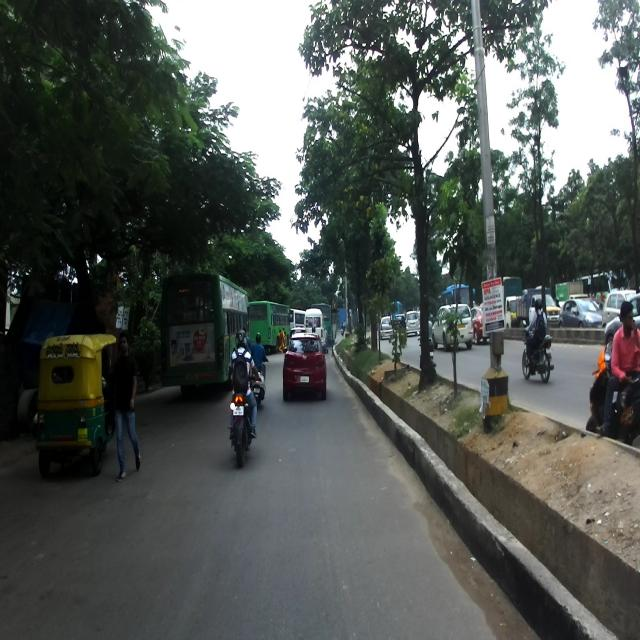autorickshaw: (36, 332, 119, 477)
bus: (161, 270, 254, 386)
car: (282, 328, 329, 402)
motorcycle: (228, 372, 261, 467), (520, 316, 554, 383)
scooter: (585, 340, 639, 446)
